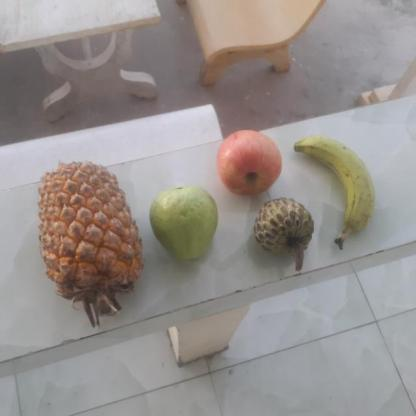annona: (251, 197, 313, 266)
apple: (214, 129, 286, 196)
banana: (292, 135, 372, 237)
guava: (147, 184, 217, 262)
pineapple: (34, 163, 139, 303)
